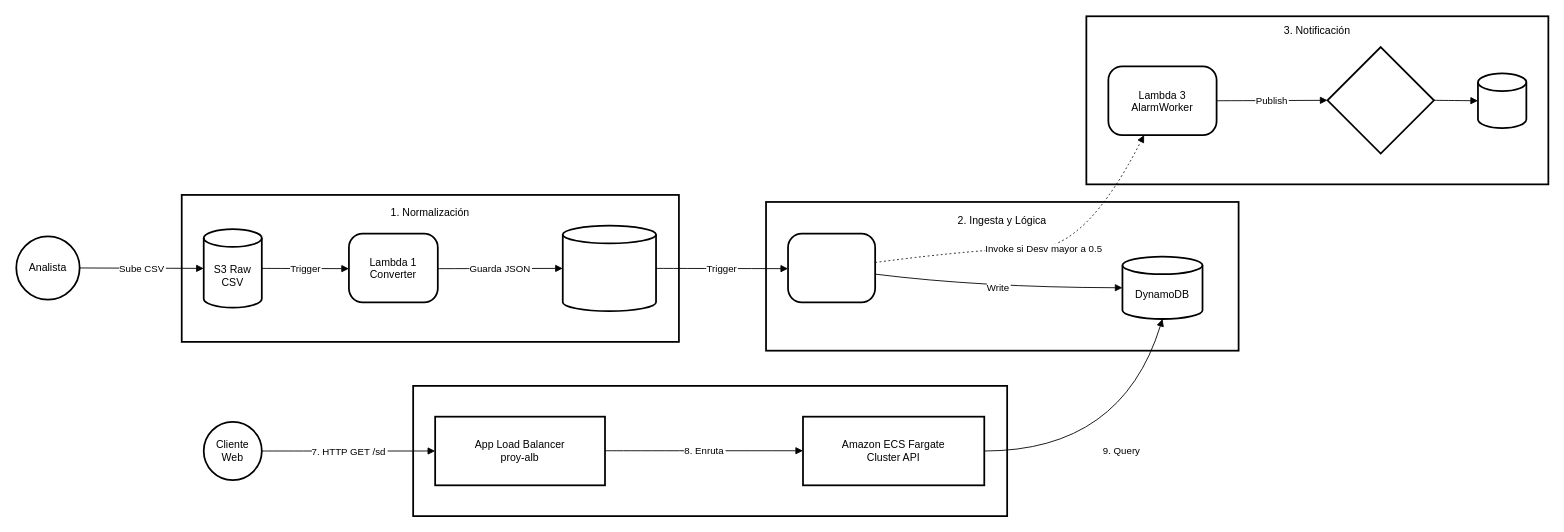
The diagram is 1564 pixels wide and 532 high, and some of its shapes have lost their labels. The box of each missing label's shape, as (x1, y1, x2, y2) in pixels:
API Escalable: (412, 385, 1008, 517)
Email: (1477, 72, 1527, 128)
Lambda 2 Ingester: (787, 232, 876, 303)
S3 Processed JSON: (561, 224, 656, 312)
SNS Topic: (1326, 46, 1434, 154)
